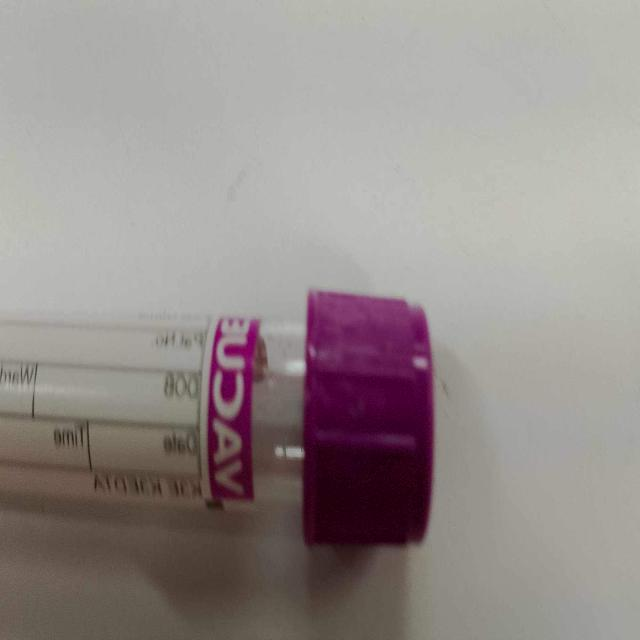General: (2, 311, 269, 512), (300, 286, 438, 548)
Sharps: (2, 286, 437, 546)
